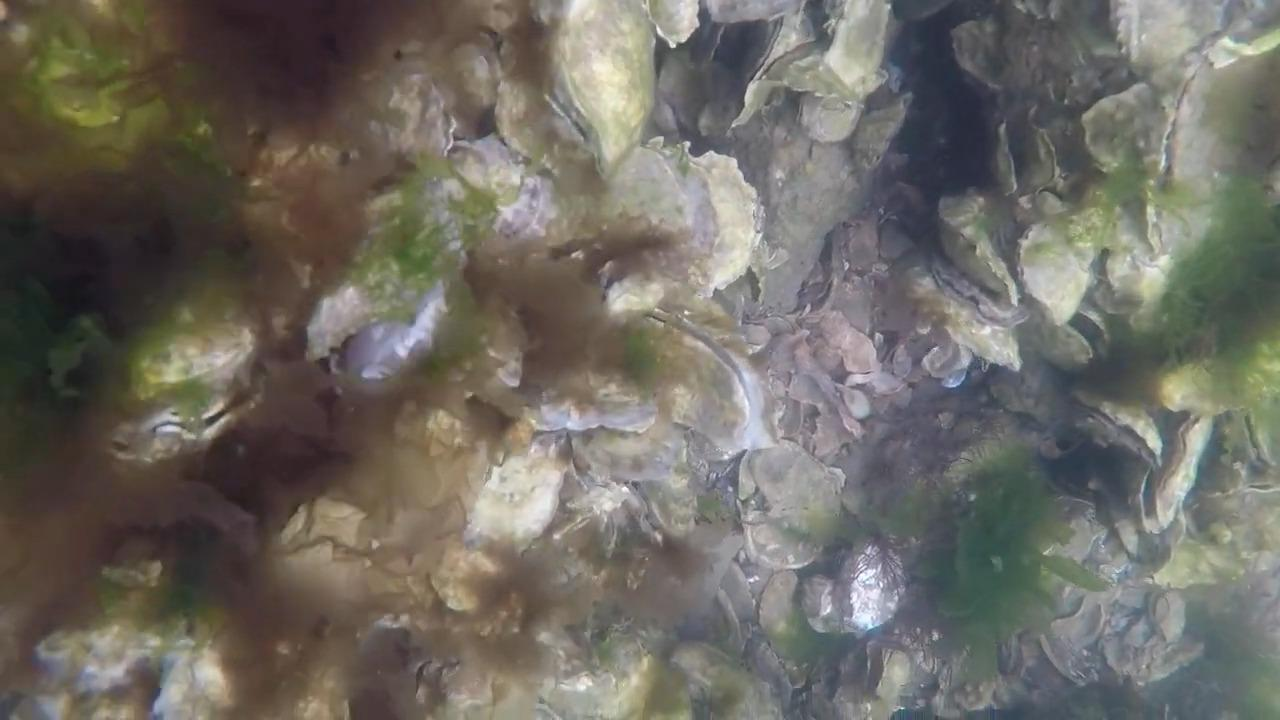Oyster: (306, 158, 497, 373), (600, 296, 764, 465), (581, 138, 741, 305), (1162, 26, 1280, 213), (151, 618, 359, 720), (545, 0, 657, 179), (942, 3, 1115, 116), (896, 252, 1029, 384), (128, 298, 259, 414), (488, 29, 581, 175), (1150, 324, 1280, 426), (463, 436, 572, 557), (538, 628, 681, 720), (732, 439, 849, 546), (796, 535, 913, 639), (926, 193, 1022, 310), (442, 130, 541, 238), (1089, 200, 1178, 318), (1066, 385, 1171, 485), (371, 60, 466, 166), (937, 191, 1022, 303), (107, 393, 232, 469), (1077, 78, 1167, 181), (1109, 0, 1216, 82), (569, 416, 681, 492), (663, 638, 769, 718), (1143, 417, 1214, 536), (1015, 221, 1096, 324), (1142, 521, 1254, 594), (816, 0, 895, 99), (530, 383, 662, 439), (1043, 588, 1120, 679), (740, 3, 818, 92), (430, 537, 508, 614), (737, 516, 827, 578), (636, 463, 706, 542), (849, 92, 909, 176), (1022, 314, 1098, 371), (713, 556, 761, 644), (795, 90, 863, 146), (1012, 123, 1059, 198), (642, 1, 707, 48), (1135, 639, 1198, 686), (1205, 478, 1279, 518), (1234, 411, 1279, 473), (1147, 586, 1187, 646), (798, 574, 840, 631), (1217, 24, 1280, 62), (991, 121, 1021, 200), (1105, 514, 1147, 565)
